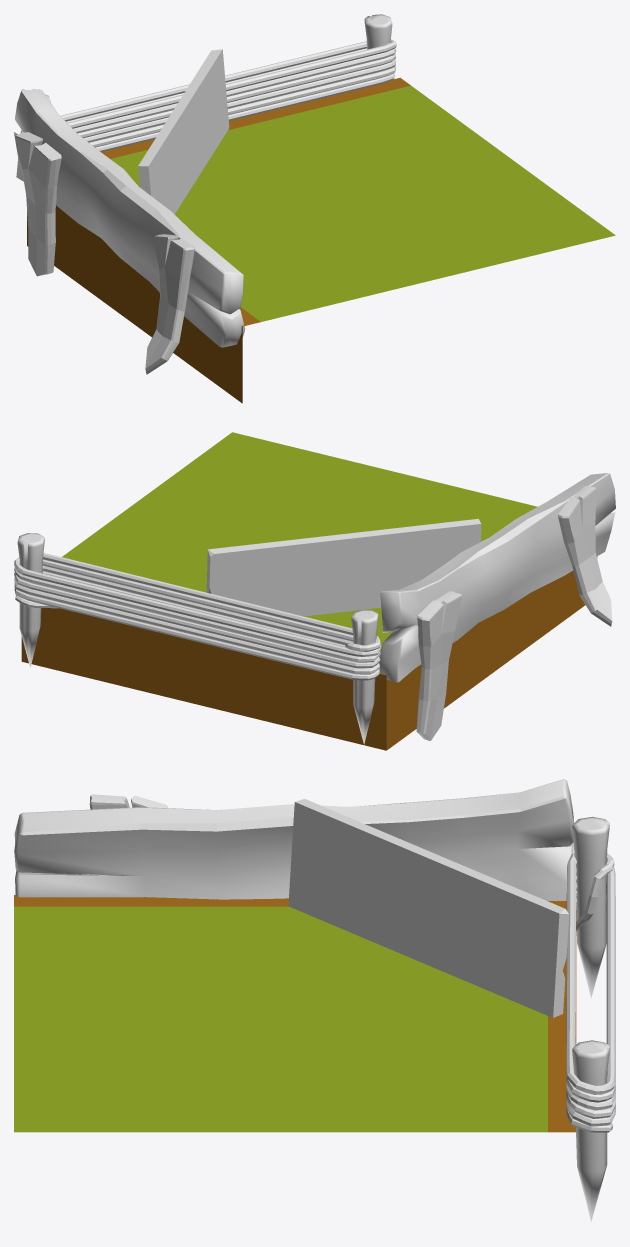
File: SB_Turn4501.fbx
3 views of the same model, one above another, from view 1: azimuth 30°, elevation 25°; view 2: azimuth 150°, elevation 25°; view 3: azimuth 270°, elevation 25° (orthographic). The views are drawn at different scales.
Visible parts, largest first — view 1: Cube.010; view 2: Cube.010; view 3: Cube.010.
Part boxes in pixels (bbox=[...]): Cube.010: bbox=[14, 14, 615, 403]; Cube.010: bbox=[14, 432, 615, 750]; Cube.010: bbox=[14, 779, 615, 1221].
Size of the model in its own units: 231 by 85.71 by 214.
